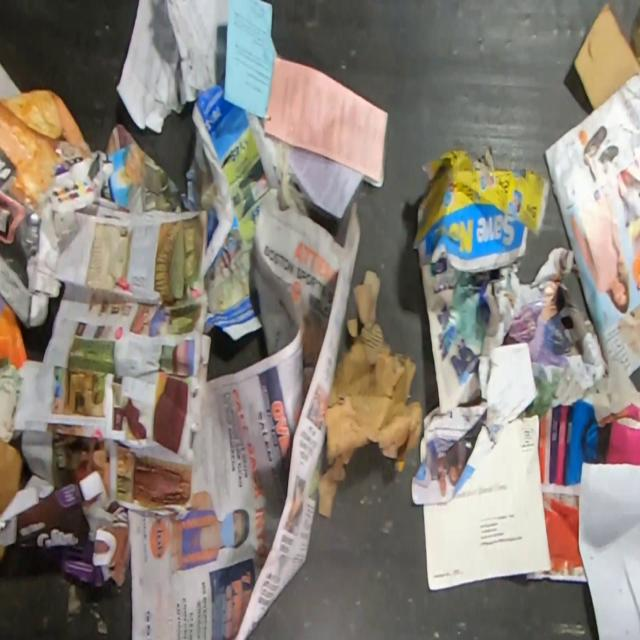cardboard: (315, 269, 422, 516), (572, 1, 640, 111), (0, 441, 23, 516)
soft_plastic: (632, 4, 640, 71)
